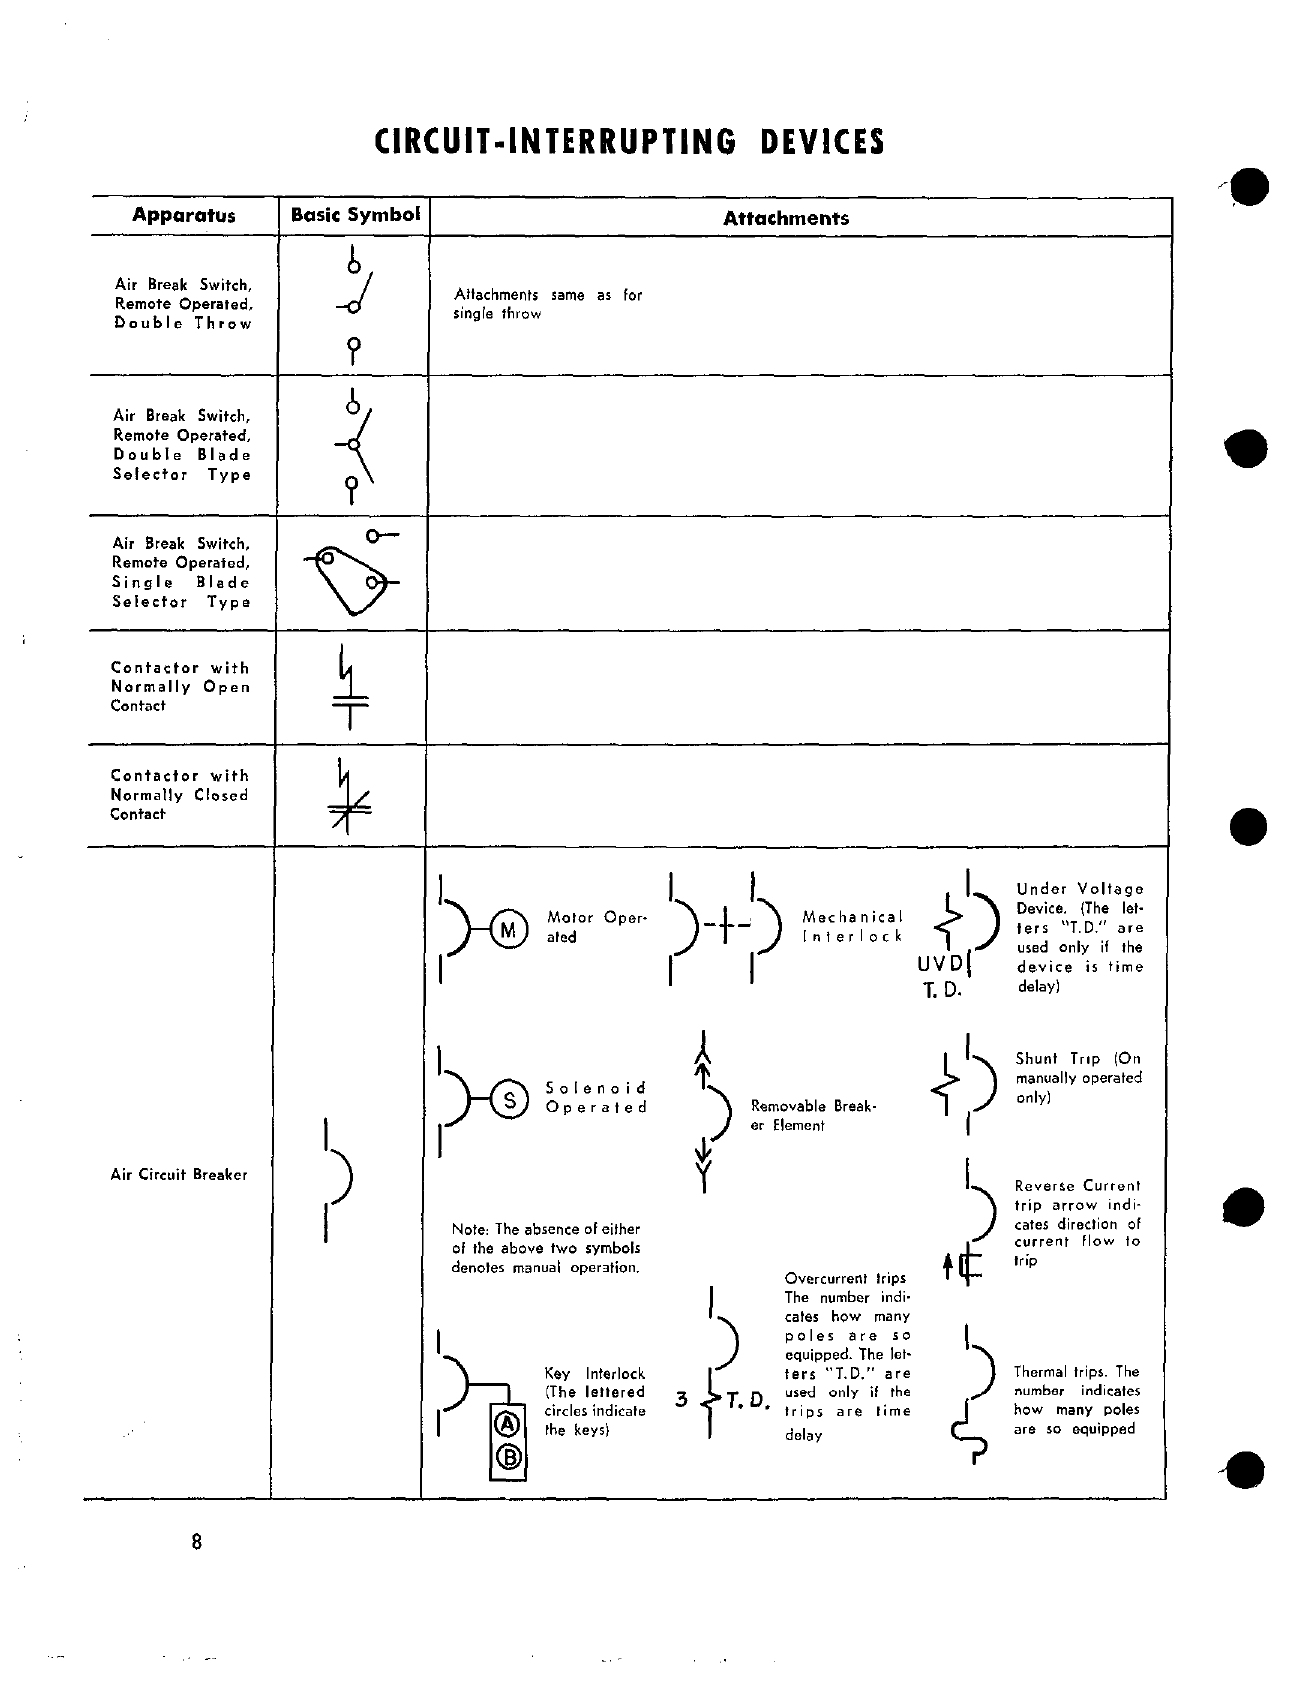circuit_breaker: (428, 1305, 531, 1507), (646, 858, 792, 1001), (287, 1076, 380, 1274), (418, 849, 533, 1005), (676, 1271, 768, 1456), (917, 1312, 1023, 1471), (425, 1023, 533, 1163), (901, 1153, 1004, 1293), (916, 853, 1004, 1009), (910, 1019, 1005, 1144), (672, 1019, 740, 1191)
